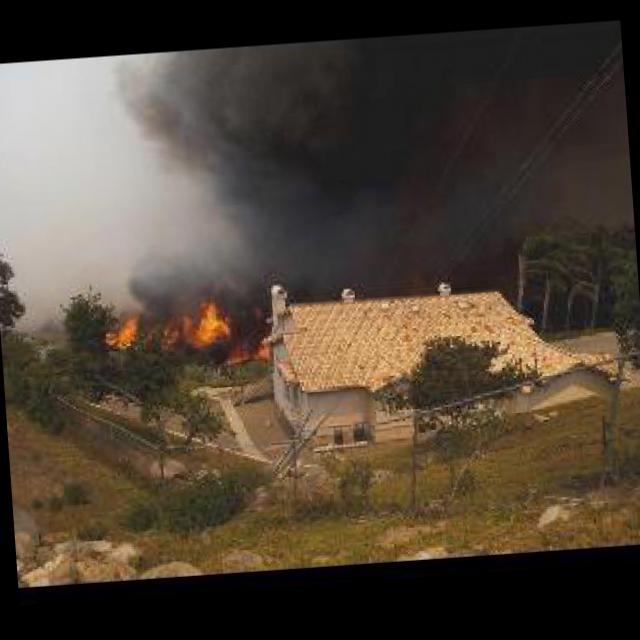fire: (98, 290, 234, 371)
smoke: (116, 21, 588, 295), (136, 274, 190, 346)
